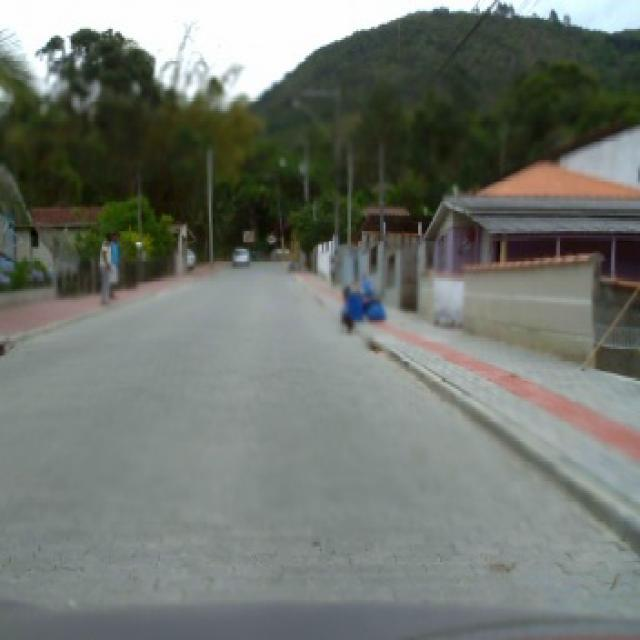Poth-hole: (365, 336, 382, 352), (0, 338, 5, 358)
